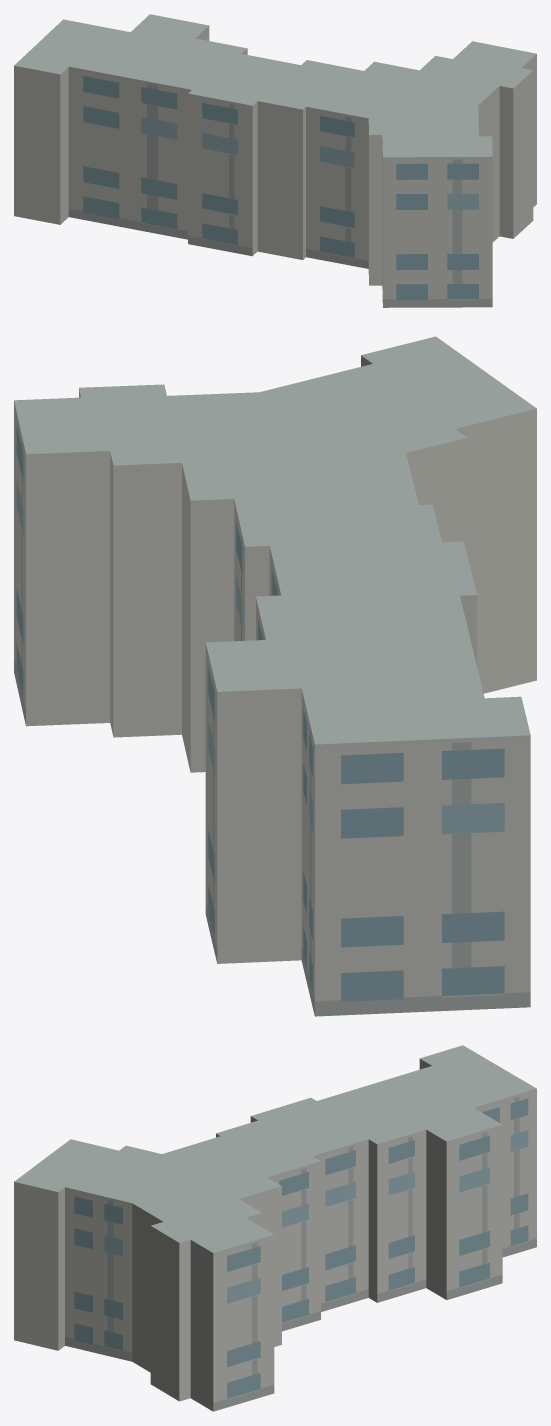
The model's file is residential-f7d755f4-5e9f-451d-a79d-778937ac7d80.glb.
3 renders of one model, top to bottom at view 1: azimuth 30°, elevation 25°; view 2: azimuth 150°, elevation 25°; view 3: azimuth 270°, elevation 25°, orthographic. The views are drawn at different scales.
Parts seen in each view (by area): view 1: residential-f7d755f4-5e9f-451d-a79d-778937ac7d80.tmp; view 2: residential-f7d755f4-5e9f-451d-a79d-778937ac7d80.tmp; view 3: residential-f7d755f4-5e9f-451d-a79d-778937ac7d80.tmp.
Boxes of the visible parts, box(x1,y1,x2,y2) form: residential-f7d755f4-5e9f-451d-a79d-778937ac7d80.tmp: box(14, 14, 536, 307); residential-f7d755f4-5e9f-451d-a79d-778937ac7d80.tmp: box(14, 336, 536, 1016); residential-f7d755f4-5e9f-451d-a79d-778937ac7d80.tmp: box(14, 1045, 536, 1411).
Size of the model in its own units: 42.89 by 15.25 by 45.58.
